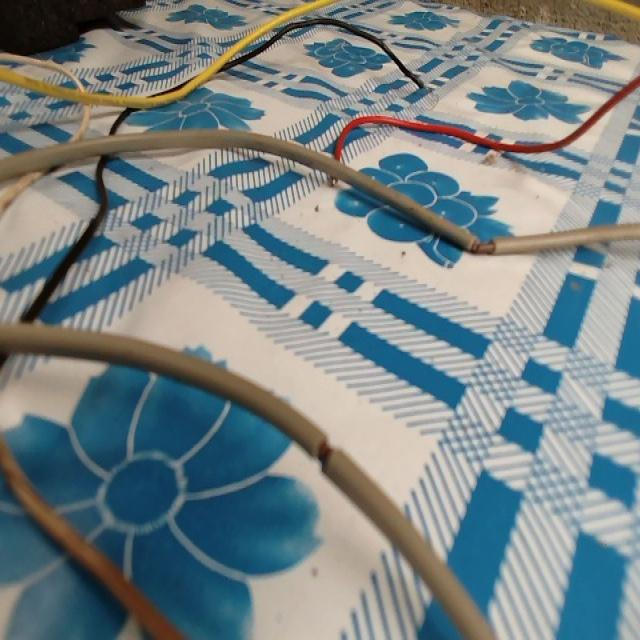-: (307, 429, 339, 474), (465, 226, 498, 262), (412, 74, 428, 94), (328, 173, 339, 187)
